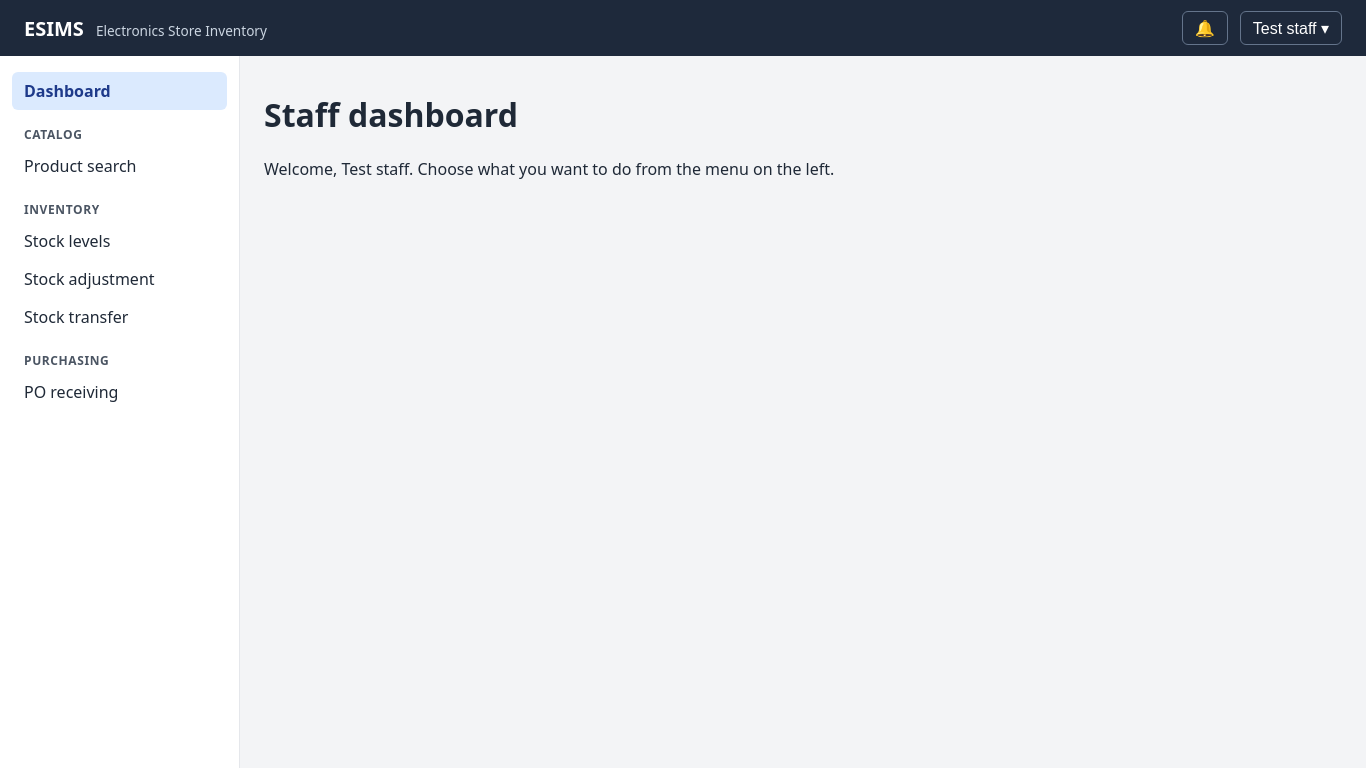
Test: the user menu shows the name and role and offers Sign out
Click the button "Test staff ▾".
click(1291, 28)  # box [1240,11,1342,45]
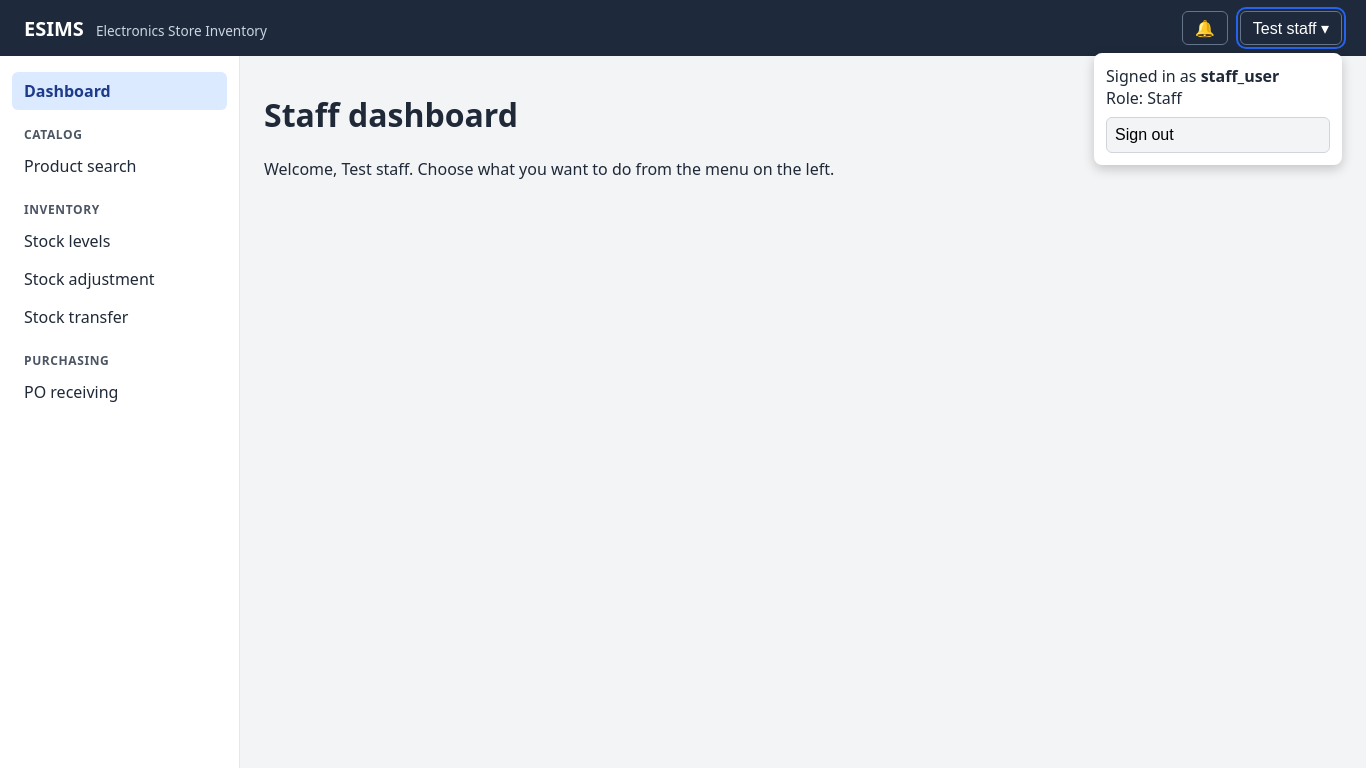
Check: the menu named "User menu" shows "Role: Staff", box [1094,53,1342,165]
Check: the menu item "Sign out" is shown, box [1106,117,1330,153]
